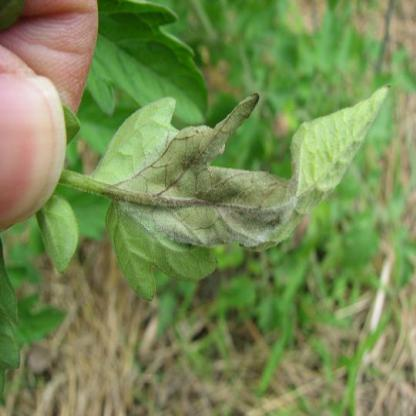Tomato leaf late blight: (96, 84, 391, 310)
